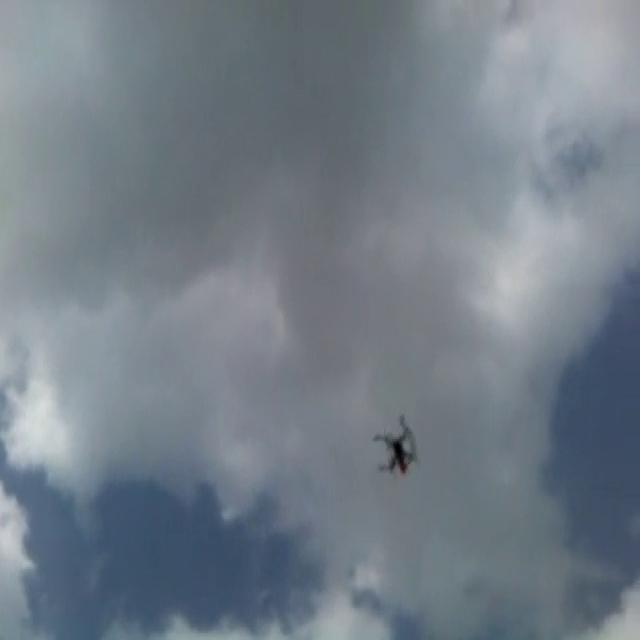drone: (372, 409, 421, 478)
